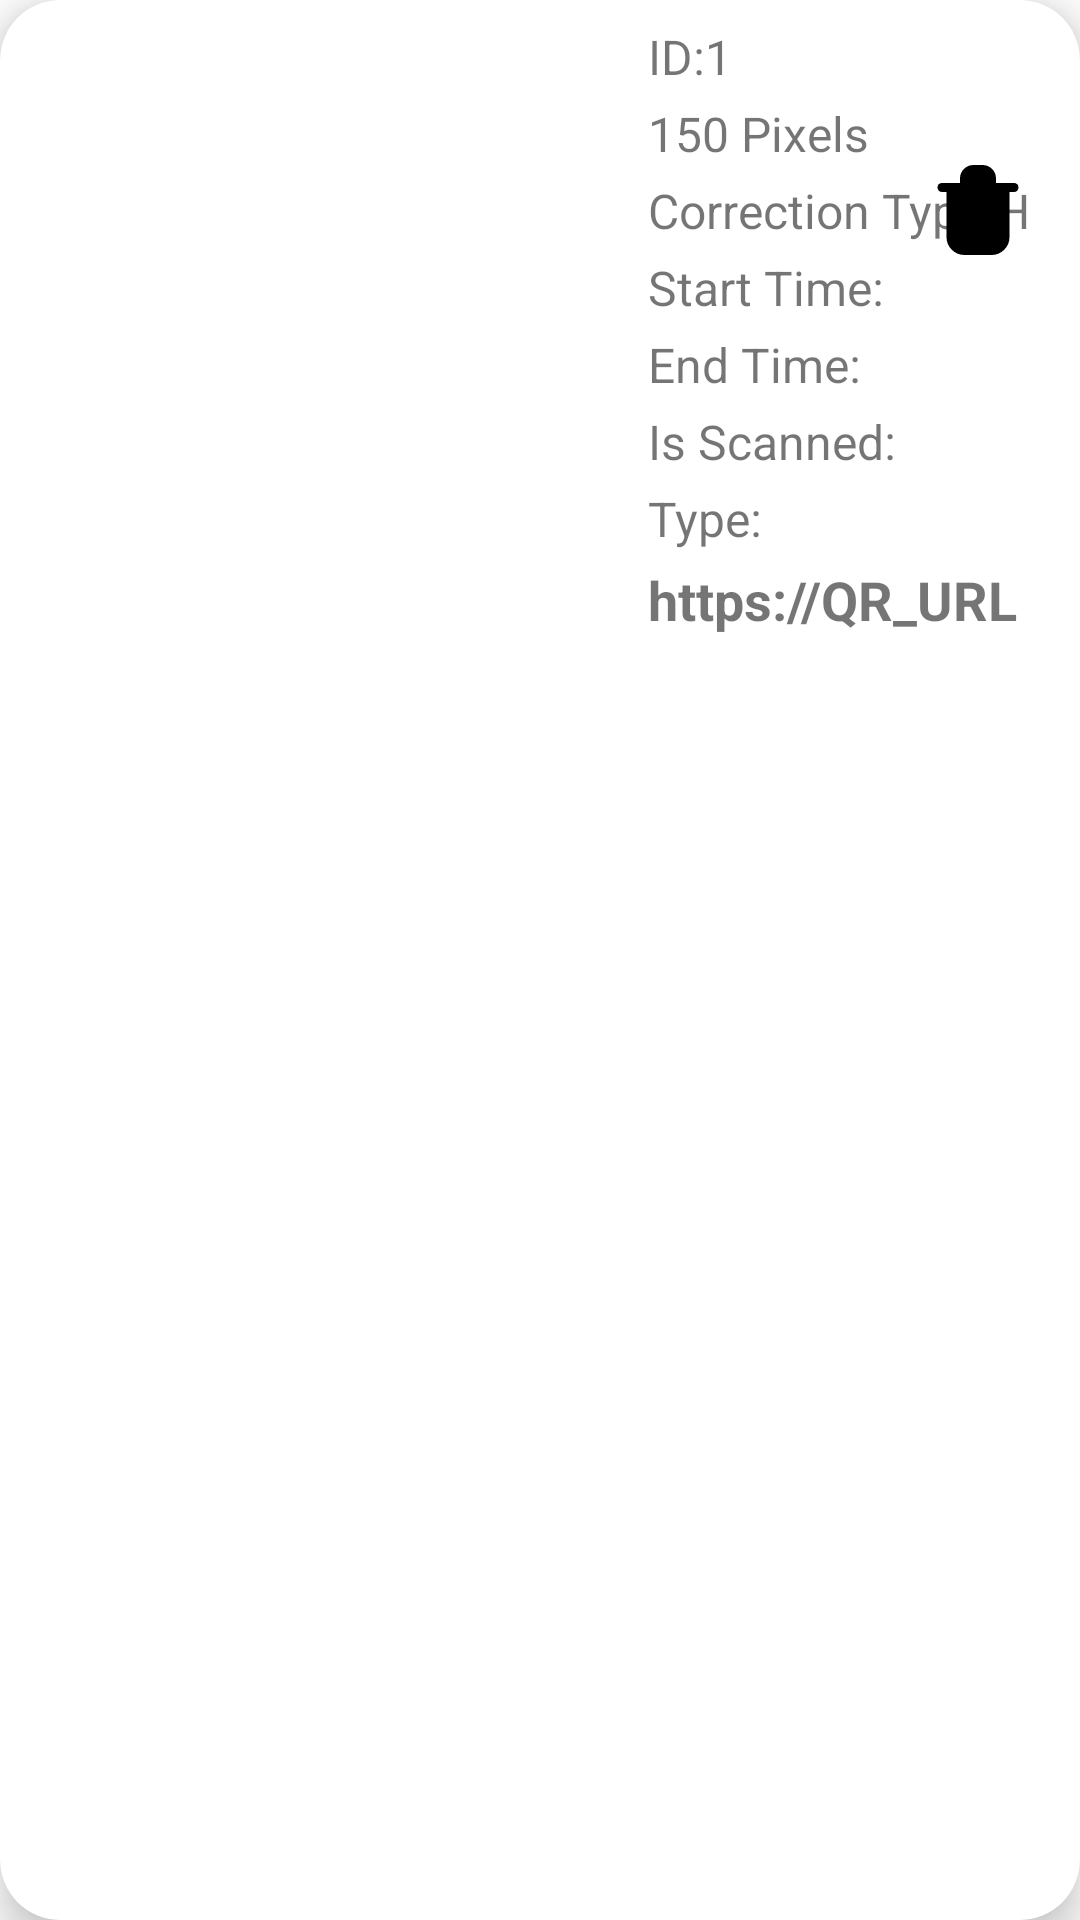

Locate icon controls on the screen. Image size 1080×1920, boxes as Rect(x1, y1, x2, y2).
delete: Rect(935, 165, 1026, 255)
